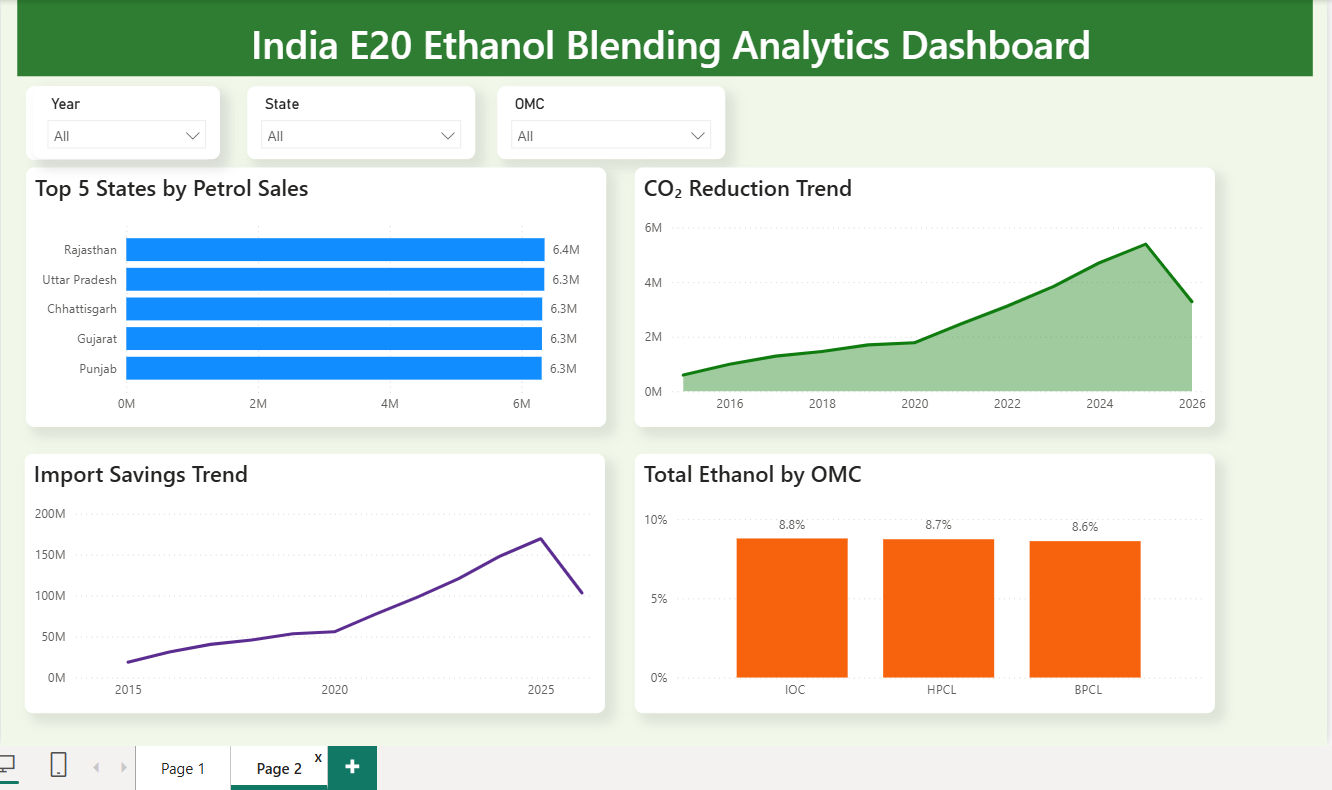

The page's visual inventory and layout, read from the dashboard file:
{"tool":"powerbi","page":{"name":"Page 2","canvas":[1280,720],"ordinal":1},"visuals":[{"type":"textbox","box":[15.3,0,1250.8,73.7],"z":0},{"type":"slicer","fields":{"Values":["E20_Synthetic_Dashboard_Dataset_2015_2026.Year"]},"box":[24.7,83.7,179.8,71.4],"z":1000},{"type":"slicer","fields":{"Values":["E20_Synthetic_Dashboard_Dataset_2015_2026.State_UT"]},"box":[237.4,83.7,220,70],"z":2000},{"type":"slicer","fields":{"Values":["E20_Synthetic_Dashboard_Dataset_2015_2026.OMC"]},"box":[478.9,83.7,220,70],"z":3000},{"type":"clusteredBarChart","title":"Top 5 States by Petrol Sales","fields":{"Category":["E20_Synthetic_Dashboard_Dataset_2015_2026.State_UT"],"Y":["E20_Synthetic_Dashboard_Dataset_2015_2026.Total Petrol Sales"]},"box":[23.9,161.2,560,250],"z":4000},{"type":"areaChart","title":"CO₂ Reduction Trend","fields":{"Category":["E20_Synthetic_Dashboard_Dataset_2015_2026.Year"],"Y":["E20_Synthetic_Dashboard_Dataset_2015_2026.CO₂ Reduction"]},"box":[611.3,161.2,560,250],"z":5000},{"type":"lineChart","title":"Import Savings Trend","fields":{"Category":["E20_Synthetic_Dashboard_Dataset_2015_2026.Year"],"Y":["E20_Synthetic_Dashboard_Dataset_2015_2026.Import Savings"]},"box":[23.3,437.7,560,250],"z":6000},{"type":"clusteredColumnChart","title":"Total Ethanol by OMC","fields":{"Category":["E20_Synthetic_Dashboard_Dataset_2015_2026.OMC"],"Y":["E20_Synthetic_Dashboard_Dataset_2015_2026.Avg Blending %"]},"box":[612,437.7,560,250],"z":7000},{"type":"slicer","fields":{"Values":["Calendar.Year"]},"box":[31.4,82.9,180,70],"z":7002}]}

Visuals, with their boxes on the page's 1280x720 design canvas (x1, y1, x2, y2). These are canvas units, not pixel positions in the 1332x790 screenshot, which may show the page scaled, cropped or inside an application window:
textbox: 15,0,1266,74
slicer - E20_Synthetic_Dashboard_Dataset_2015_2026.Year: 25,84,204,155
slicer - E20_Synthetic_Dashboard_Dataset_2015_2026.State_UT: 237,84,457,154
slicer - E20_Synthetic_Dashboard_Dataset_2015_2026.OMC: 479,84,699,154
"Top 5 States by Petrol Sales" clusteredBarChart: 24,161,584,411
"CO₂ Reduction Trend" areaChart: 611,161,1171,411
"Import Savings Trend" lineChart: 23,438,583,688
"Total Ethanol by OMC" clusteredColumnChart: 612,438,1172,688
slicer - Calendar.Year: 31,83,211,153
